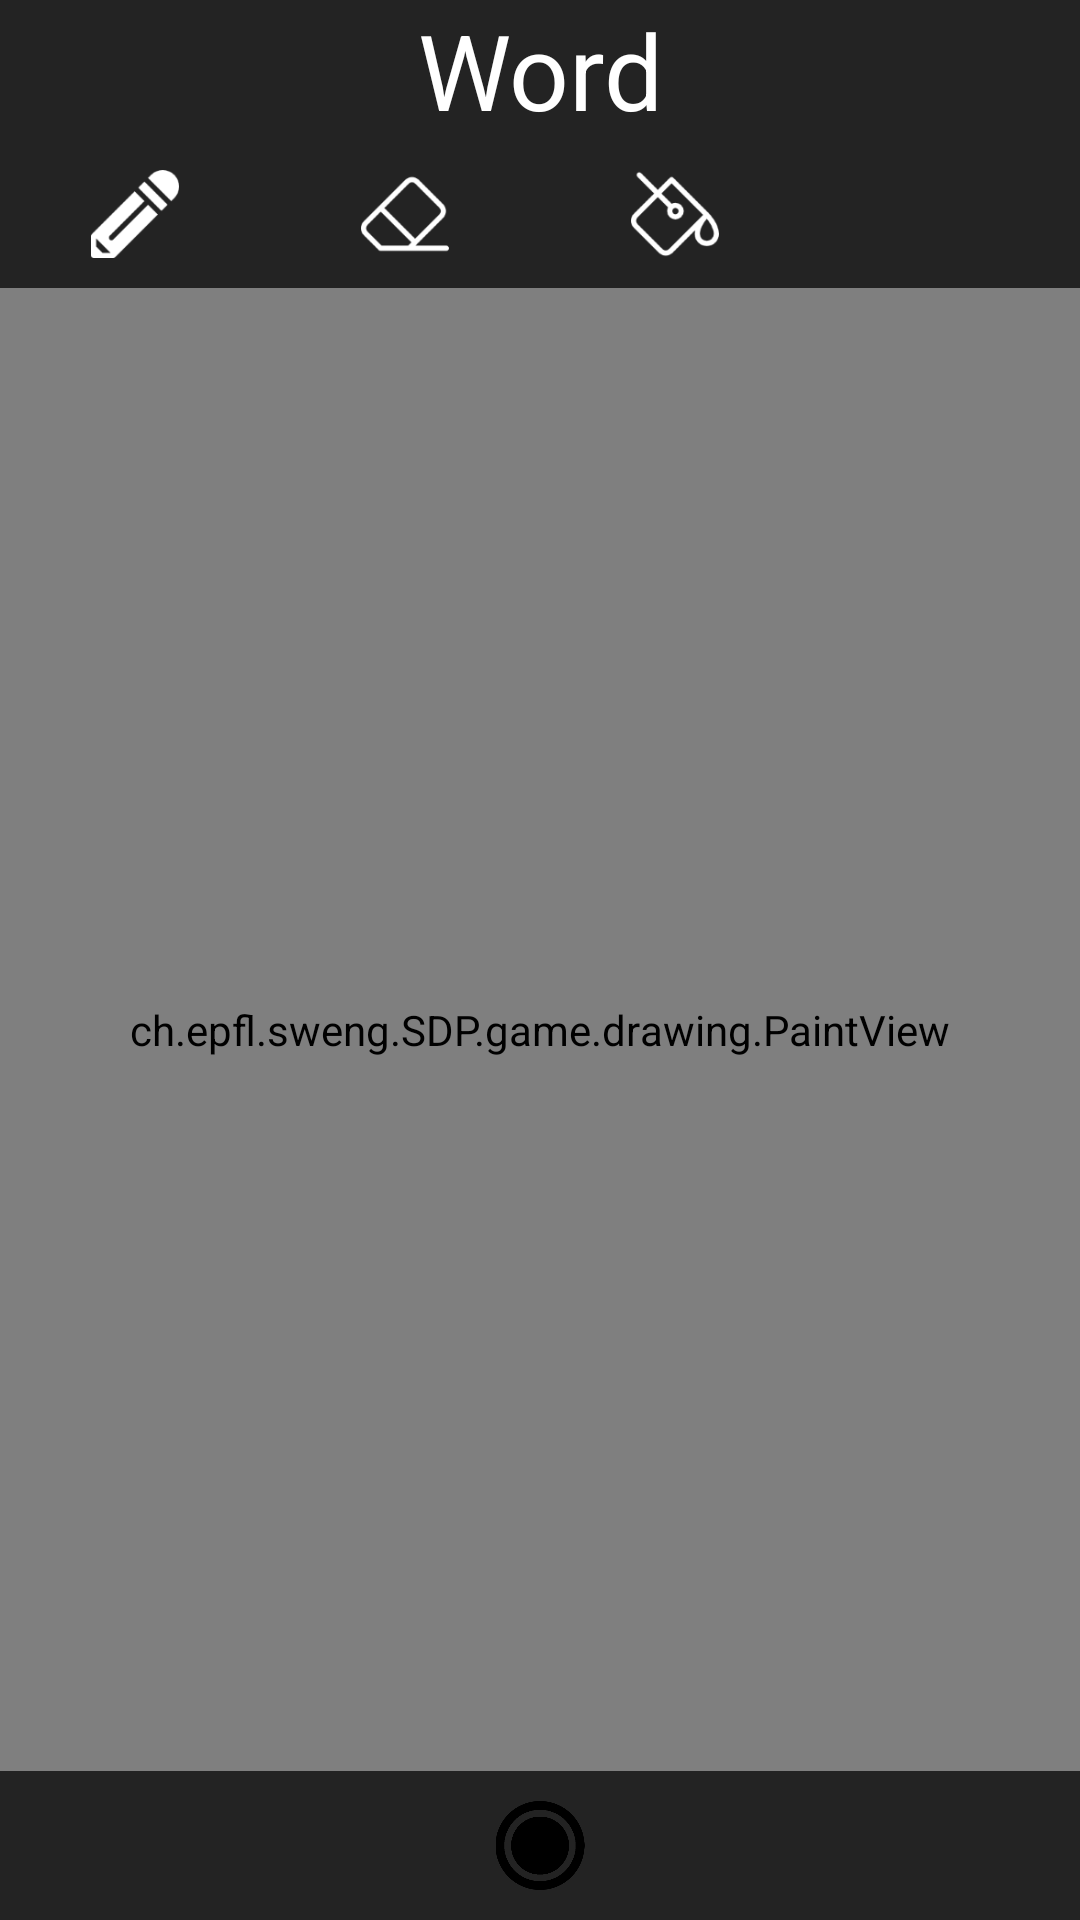

Where to tap for icons on this 1080 x 1920 app screen, as point (x, y):
bucket: point (675, 214)
eraser: point (405, 214)
